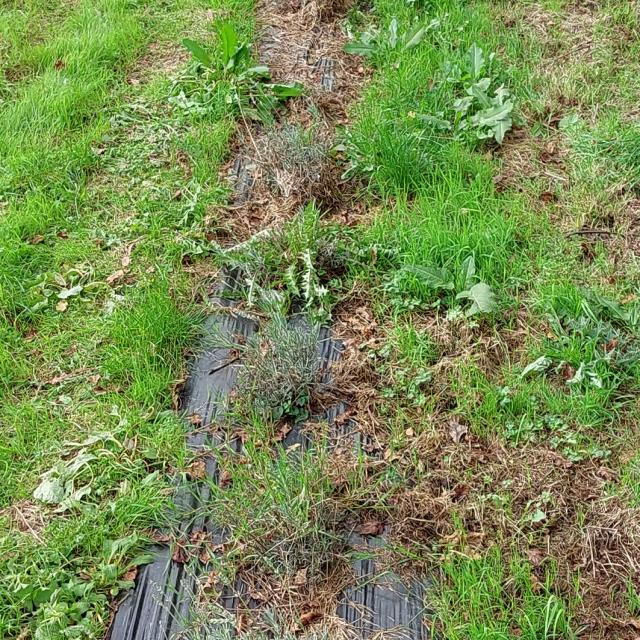organic waste: (182, 2, 295, 125), (24, 432, 154, 528), (404, 250, 512, 341), (25, 252, 139, 325), (341, 0, 450, 69), (454, 86, 548, 160), (433, 47, 501, 114)
